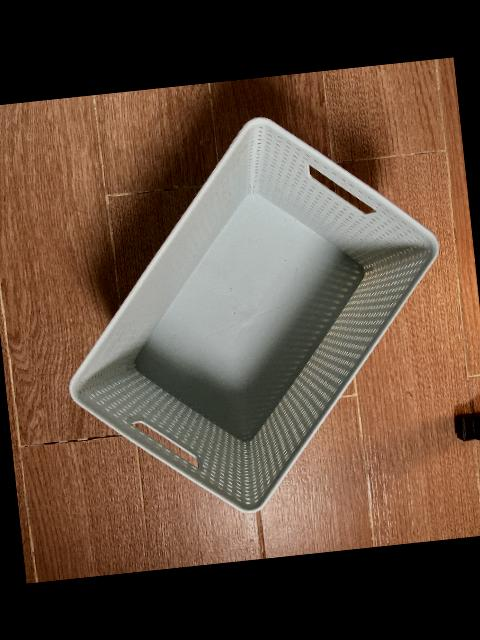cart: (70, 115, 442, 512)
